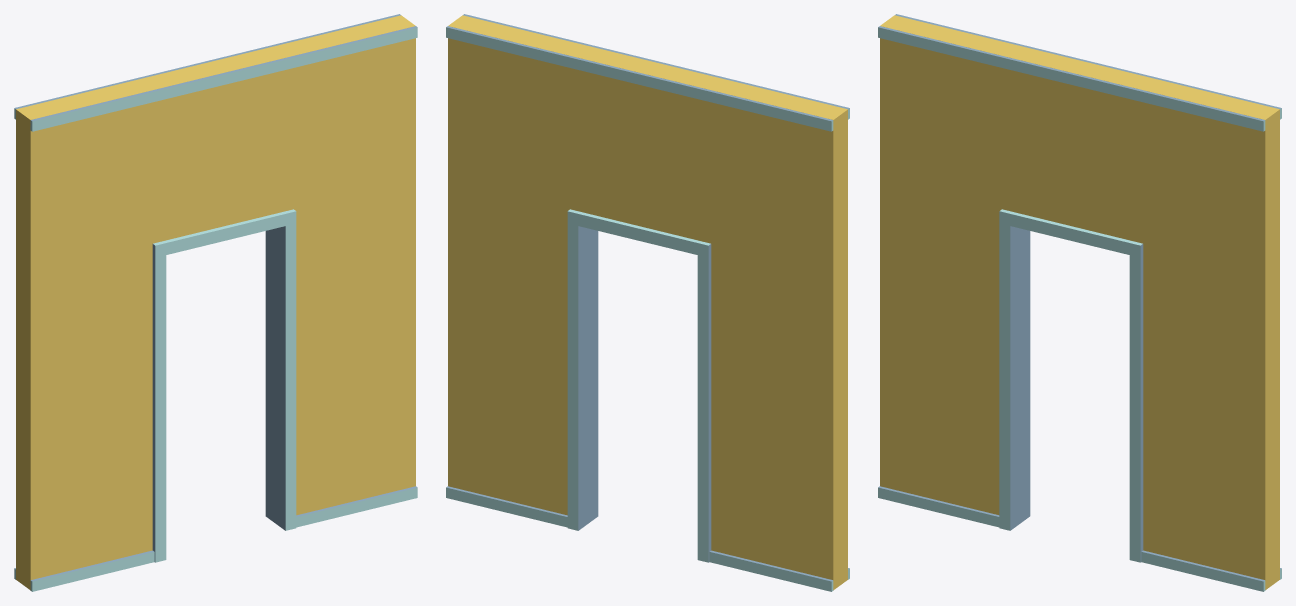
File: Wall Door .fbx
The picture shows the model from 3 angles, left to right: view 1: azimuth 30°, elevation 25°; view 2: azimuth 150°, elevation 25°; view 3: azimuth 330°, elevation 25°; orthographic projection.
Parts seen in each view (by area): view 1: Wall Door; view 2: Wall Door; view 3: Wall Door.
Boxes of the visible parts, x1,y1,x2,y2 form: Wall Door: (14,14,417,591); Wall Door: (446,14,849,591); Wall Door: (878,14,1281,591).
Size of the model in its own units: 600 by 700 by 53.84.
